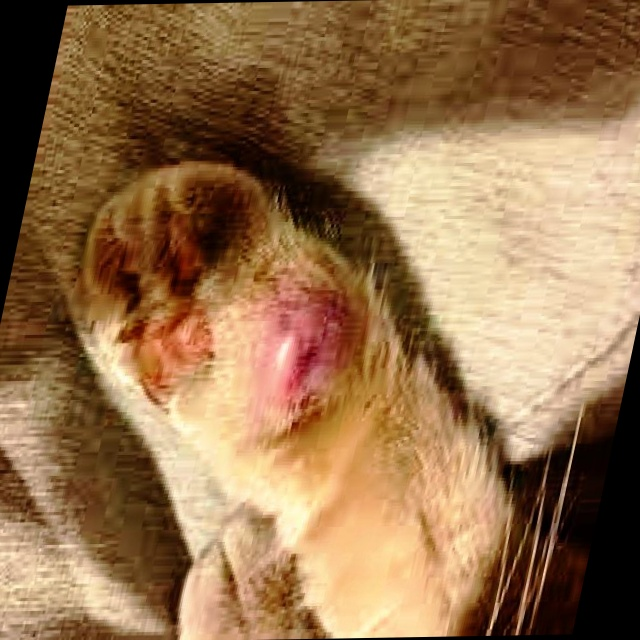lump_and_bump: (250, 290, 361, 426)
